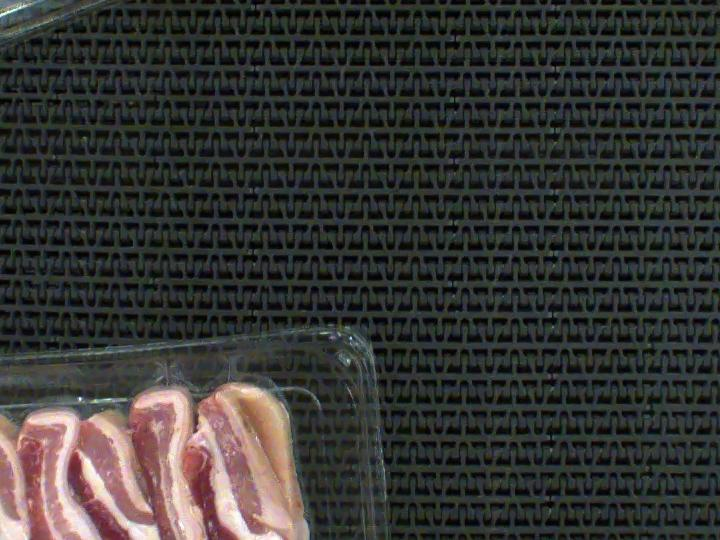unsealed: (0, 365, 340, 493)
